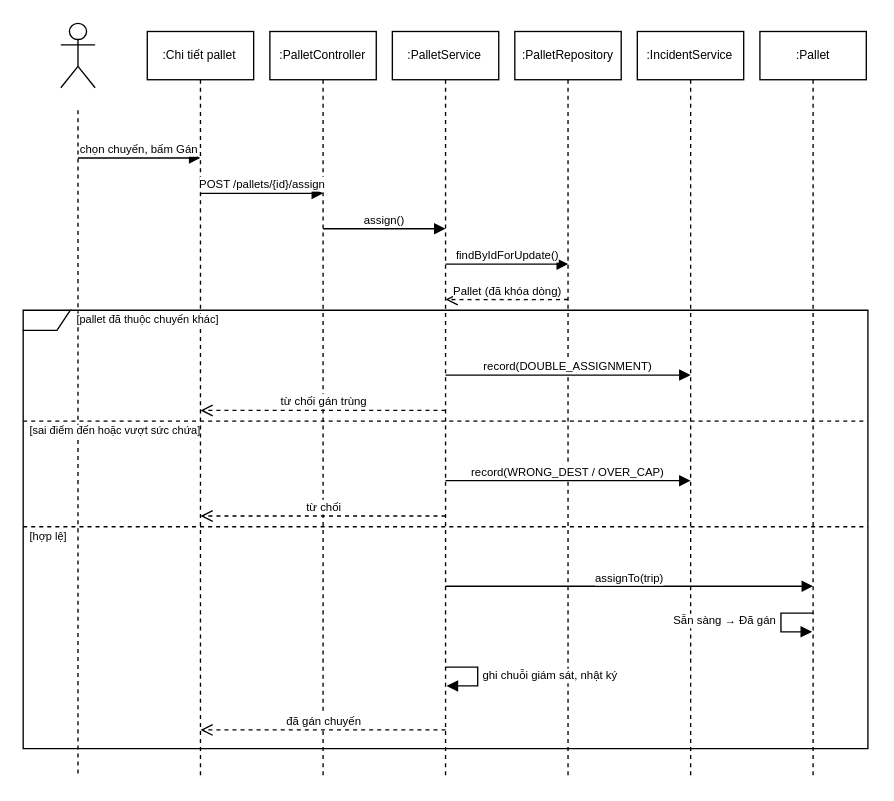
Image size: 894x801. Some labels were removed from this diagram. Each missing label, with the box of its shape:
alt: (22, 309, 868, 749)
NV Outbound: (59, 22, 95, 88)
